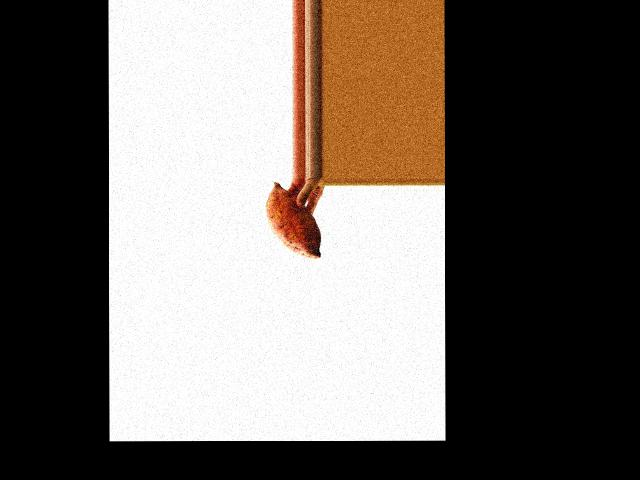sweet_potato: (260, 184, 323, 260)
